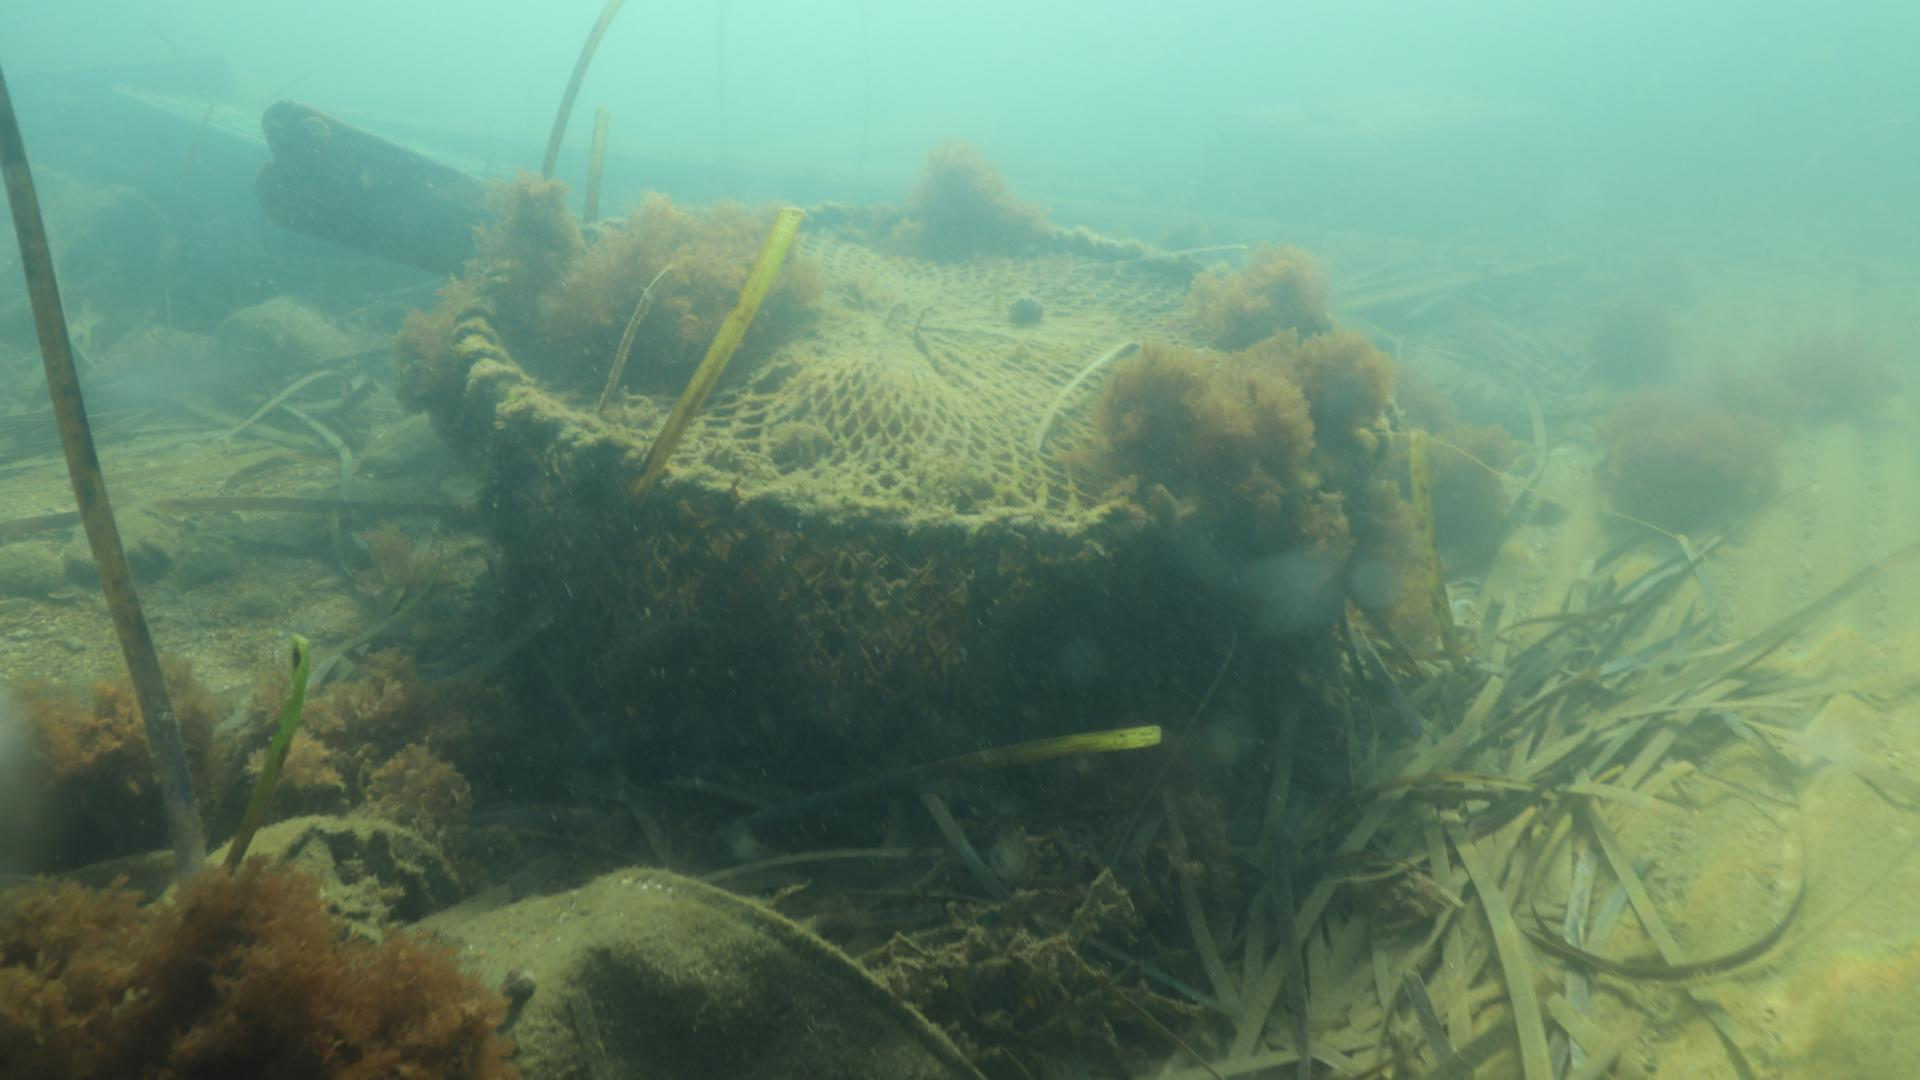circular fish trap: (448, 196, 1400, 752)
